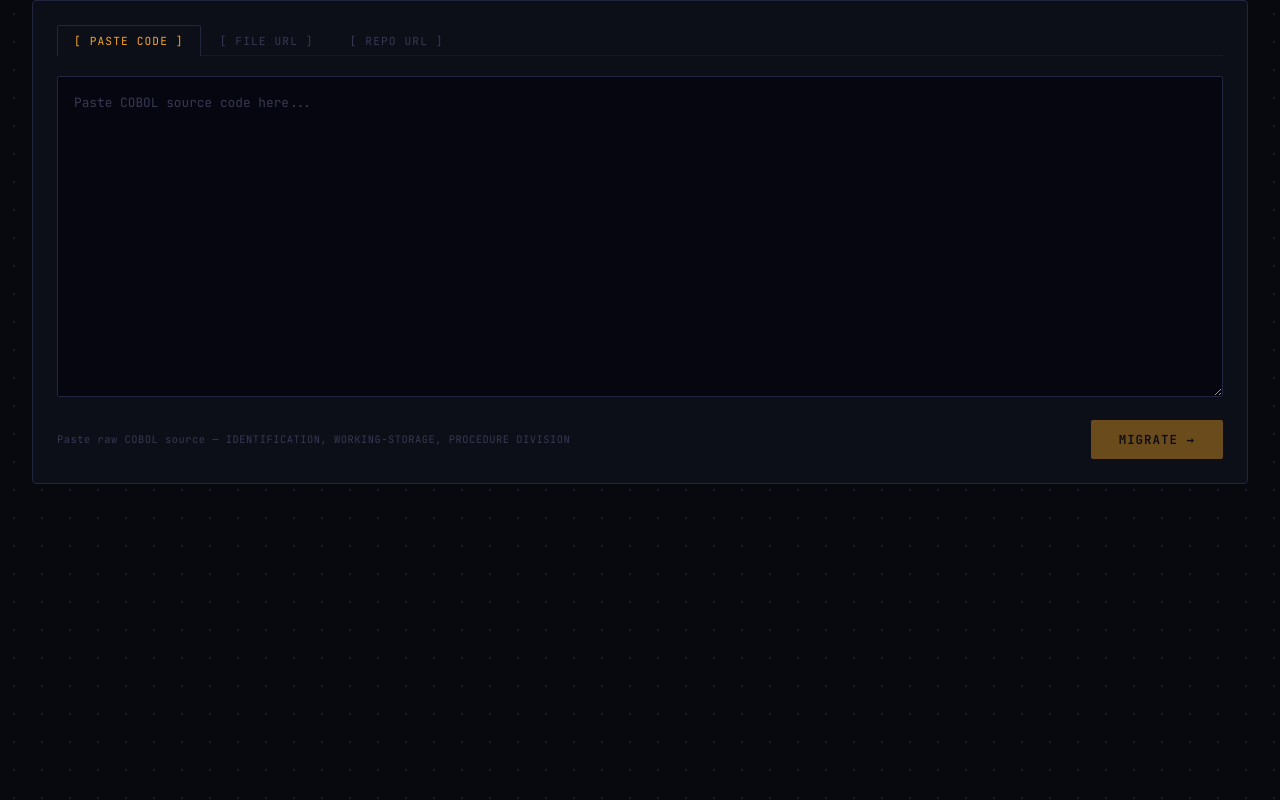
InputPanel › switches to File URL tab
Step 1. Click the button "File URL" → (267, 40), box [203, 25, 331, 56]
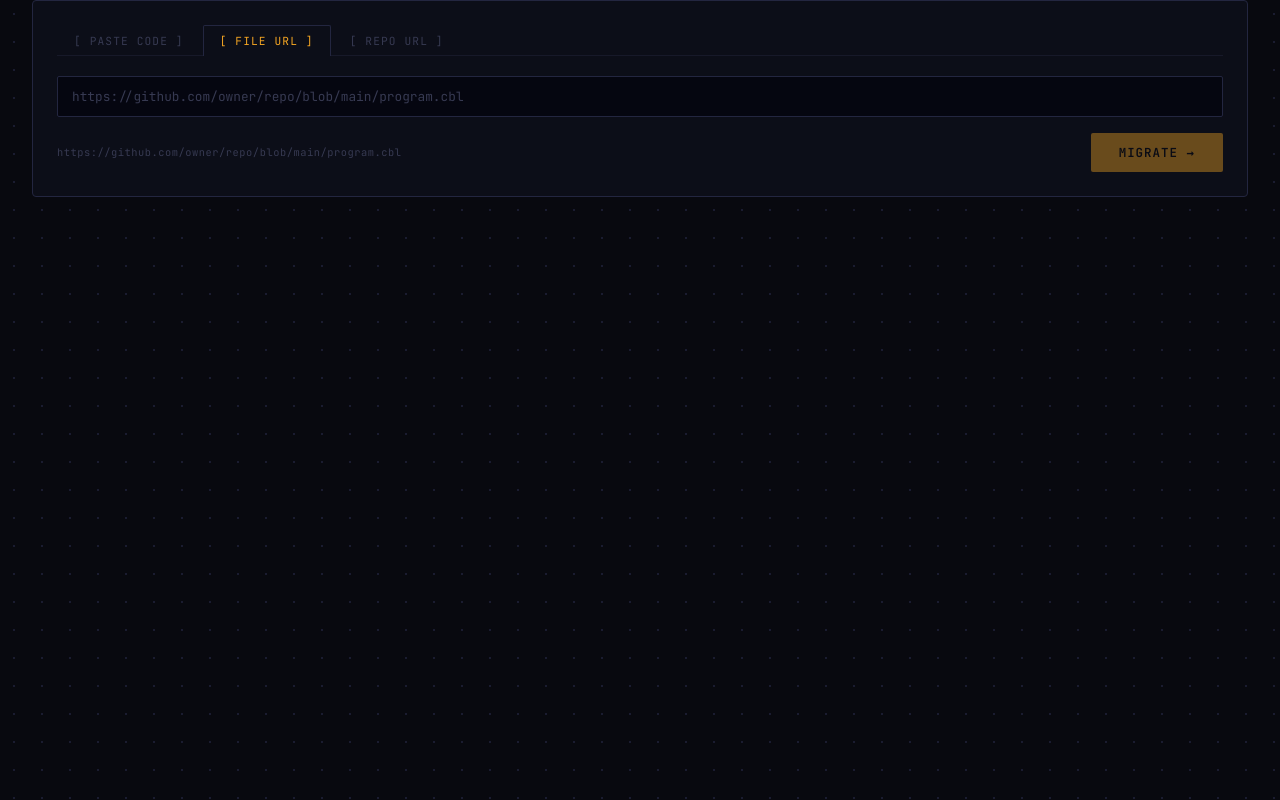
Result: the field with placeholder "https://github.com/owner/repo/blob/main/program.cbl" is shown at [57, 76, 1223, 117]
